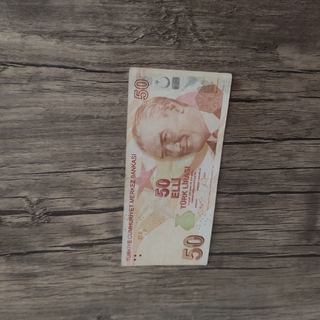50TLFront: (120, 65, 232, 264)
